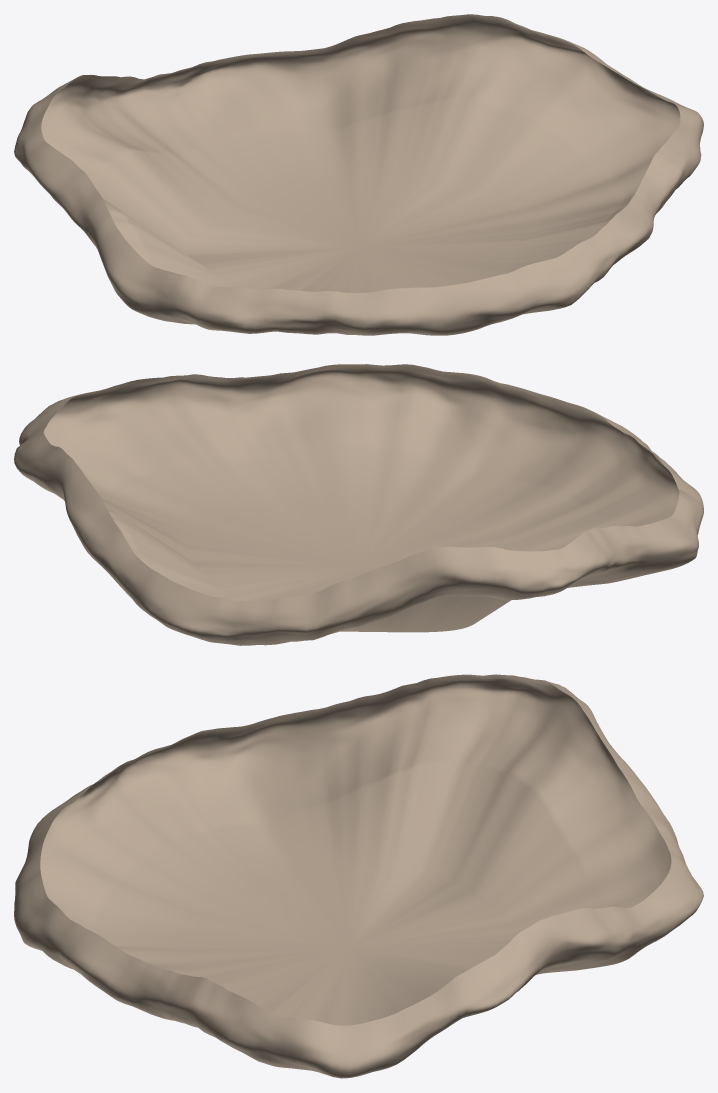
The model's file is moss-bedrock.glb.
The picture shows the model from 3 angles, top to bottom: view 1: azimuth 30°, elevation 25°; view 2: azimuth 150°, elevation 25°; view 3: azimuth 270°, elevation 25°; orthographic projection. The views are drawn at different scales.
Visible parts, largest first — view 1: sculpted-bedrock; view 2: sculpted-bedrock; view 3: sculpted-bedrock.
Boxes of the visible parts, box(x1,y1,x2,y2) form: sculpted-bedrock: box(14, 14, 703, 335); sculpted-bedrock: box(14, 364, 703, 645); sculpted-bedrock: box(14, 674, 703, 1078).
Size of the model in its own units: 15.58 by 3.37 by 13.78.
